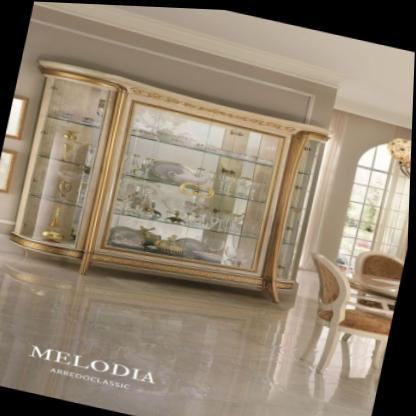Cupboard: (0, 55, 346, 323)
